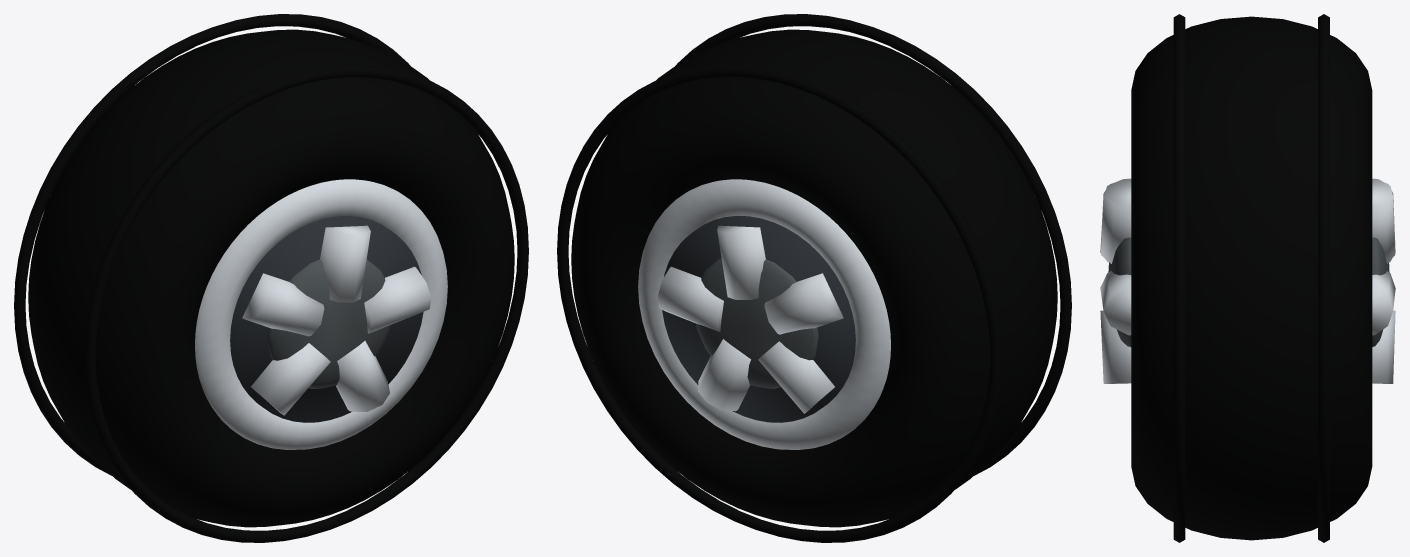
Rendered from SM_V4_WheelFR.fbx.
3 renders of one model, left to right at view 1: azimuth 30°, elevation 25°; view 2: azimuth 150°, elevation 25°; view 3: azimuth 270°, elevation 25°, orthographic. The views are drawn at different scales.
Parts seen in each view (by area): view 1: SM_V4_WheelFR; view 2: SM_V4_WheelFR; view 3: SM_V4_WheelFR.
Part boxes in pixels (bbox=[...]): SM_V4_WheelFR: bbox=[14, 14, 528, 542]; SM_V4_WheelFR: bbox=[557, 14, 1071, 542]; SM_V4_WheelFR: bbox=[1100, 14, 1395, 542].
Bounding box in the file's own units: 35.18 × 19.62 × 35.18.
